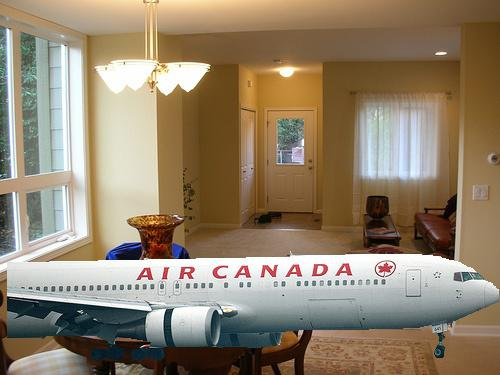tampered: (8, 252, 499, 360)
